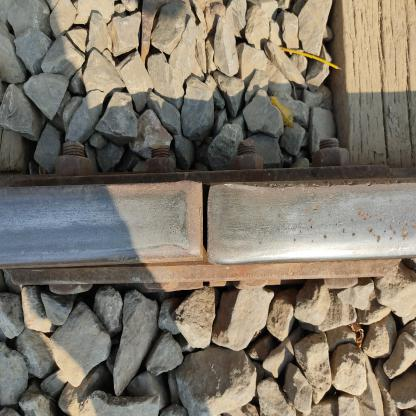Non Defective 2: (168, 158, 248, 284)
Non Defective 3: (43, 129, 401, 200)
